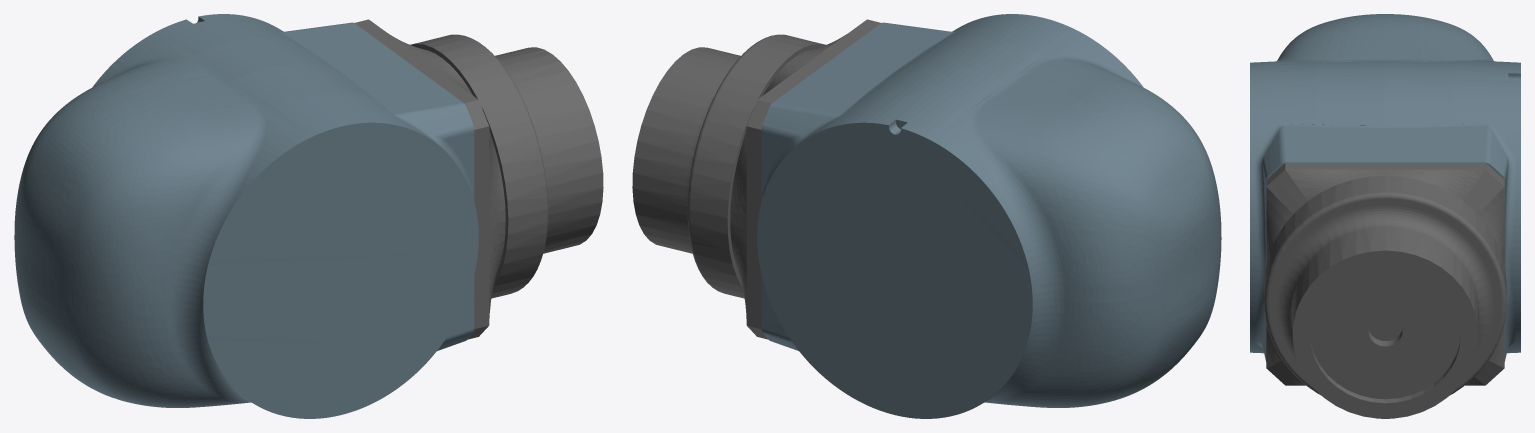
3 views of the same model, side by side, from view 1: azimuth 30°, elevation 25°; view 2: azimuth 150°, elevation 25°; view 3: azimuth 270°, elevation 25° (orthographic). The views are drawn at different scales.
Parts seen in each view (by area): view 1: link5_modified; view 2: link5_modified; view 3: link5_modified.
Part boxes in pixels (x1,y1,x2,y2): link5_modified: (14, 14, 603, 418); link5_modified: (632, 14, 1221, 418); link5_modified: (1250, 14, 1520, 418).
Bounding box in the file's own units: 0.1705 × 0.086 × 0.0944.
